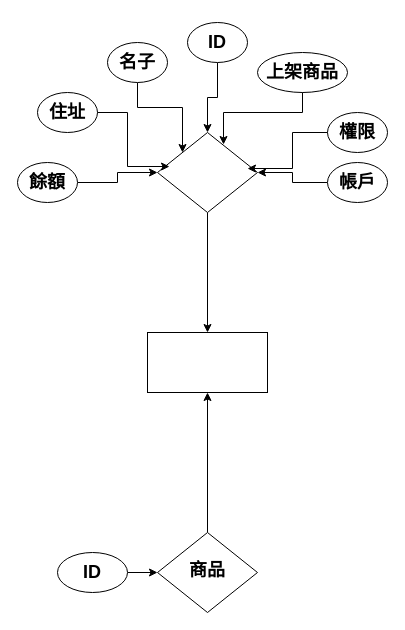
This 405x630 diagram has some shape labels left out. The box of each missing label's shape, as (x1, y1, x2, y2) in pixels:
使用者: (156, 132, 258, 212)
購買商品: (146, 332, 268, 392)
